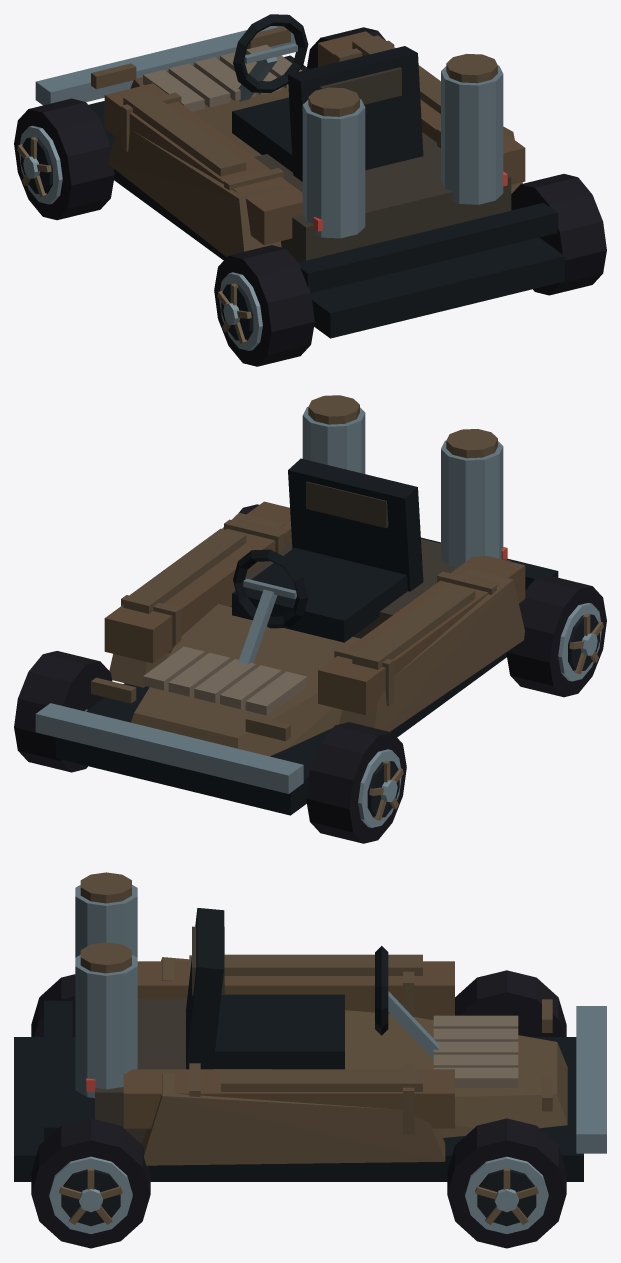
The model's file is kart.glb.
3 views of the same model, one above another, from view 1: azimuth 30°, elevation 25°; view 2: azimuth 150°, elevation 25°; view 3: azimuth 270°, elevation 25° (orthographic). The views are drawn at different scales.
Visible parts, largest first — view 1: chassis, wheel-rear-left, wheel-front-left, wheel-rear-right, wheel-front-right; view 2: chassis, wheel-front-left, wheel-rear-left, wheel-front-right; view 3: chassis, wheel-front-right, wheel-rear-right, wheel-front-left, wheel-rear-left.
Part boxes in pixels (x1,y1,x2,y2): chassis: (35,14,564,338); wheel-rear-left: (214,245,314,366); wheel-front-left: (14,98,114,220); wheel-rear-right: (511,174,606,295); wheel-front-right: (307,27,385,69); chassis: (35,395,558,815); wheel-front-left: (306,722,406,843); wheel-rear-left: (506,575,606,697); wheel-front-right: (14,651,112,772); chassis: (14,872,606,1181); wheel-front-right: (447,1118,566,1248); wheel-rear-right: (31,1118,150,1248); wheel-front-left: (455,970,566,1036); wheel-rear-left: (31,974,75,1036).
Bounding box in the file's own units: 2.26 × 1.4 × 3.08.
